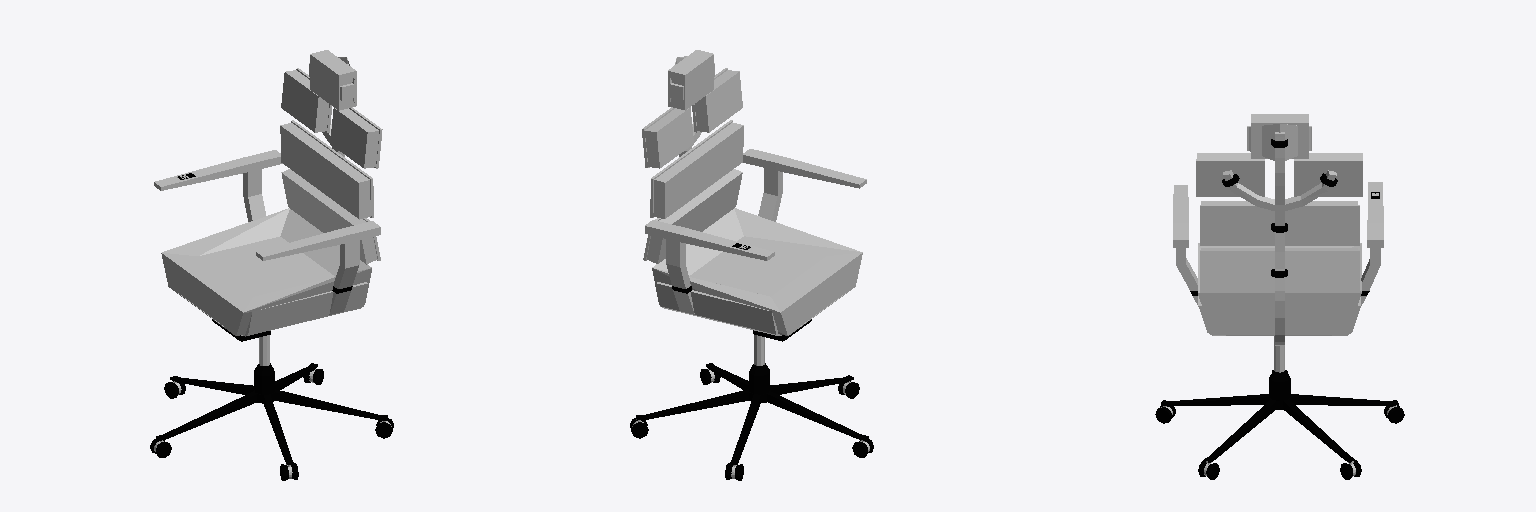
File: chair-back_column3_000001.obj
The picture shows the model from 3 angles: view 1: azimuth 30°, elevation 25°; view 2: azimuth 150°, elevation 25°; view 3: azimuth 270°, elevation 25°; orthographic projection.
Visible parts, largest first — view 1: Cylinder, Cube; view 2: Cylinder, Cube; view 3: Cylinder, Cube.
Part boxes in pixels (bbox=[...]): Cylinder: bbox=[150, 66, 393, 480]; Cube: bbox=[309, 50, 356, 110]; Cylinder: bbox=[630, 66, 873, 480]; Cube: bbox=[668, 50, 714, 110]; Cylinder: bbox=[1155, 132, 1404, 479]; Cube: bbox=[1247, 114, 1311, 160].
Bounding box in the file's own units: 0.8184 × 1.34 × 0.8595.